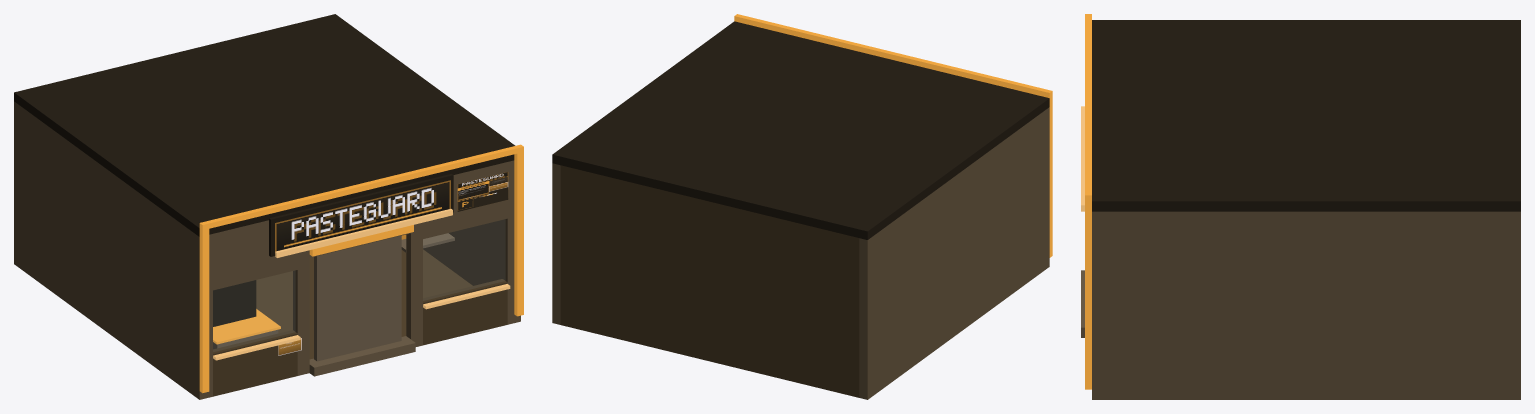
File: plot.glb
3 views of the same model, side by side, from view 1: azimuth 30°, elevation 25°; view 2: azimuth 150°, elevation 25°; view 3: azimuth 270°, elevation 25° (orthographic). The views are drawn at different scales.
Visible parts, largest first — view 1: facade, neon, sign_1, door_panel_L, door_panel_R, pic_1, lintel; view 2: facade, neon; view 3: facade, neon.
Boxes of the visible parts, <box> form: facade: <box>14,14,520,399</box>; neon: <box>199,144,523,393</box>; sign_1: <box>275,180,450,252</box>; door_panel_L: <box>314,246,359,361</box>; door_panel_R: <box>359,235,401,350</box>; pic_1: <box>457,172,508,211</box>; lintel: <box>309,225,413,256</box>; facade: <box>552,21,1049,399</box>; neon: <box>734,14,1052,257</box>; facade: <box>1081,20,1520,399</box>; neon: <box>1081,14,1091,389</box>.
Bounding box in the file's own units: 9.5 × 5 × 9.74.
4 materials, 3 textured.
